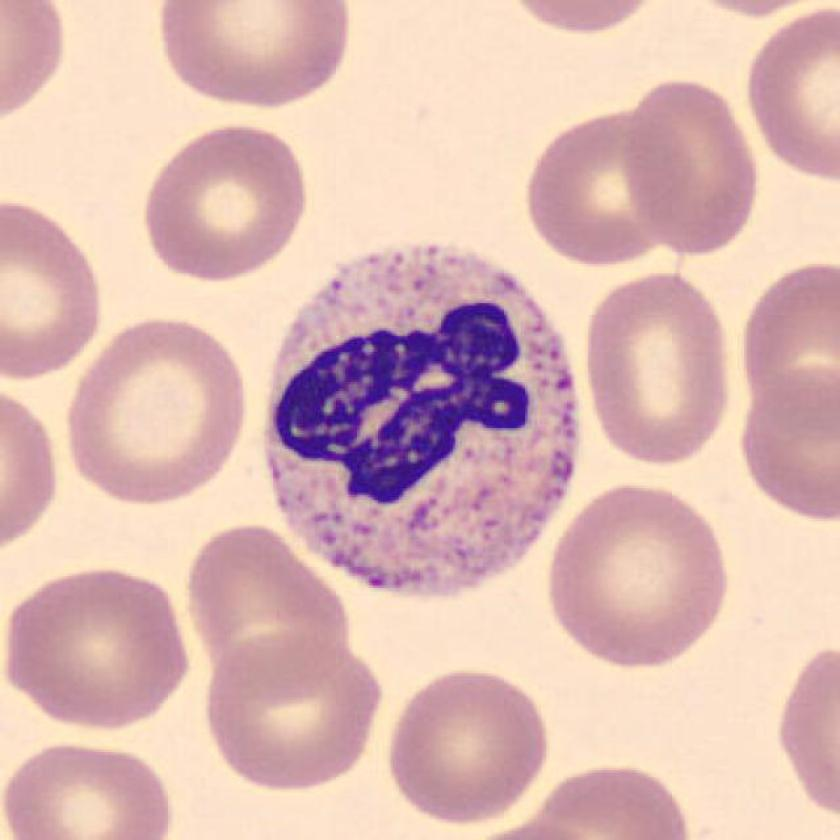neutrophil: (266, 243, 573, 600)
